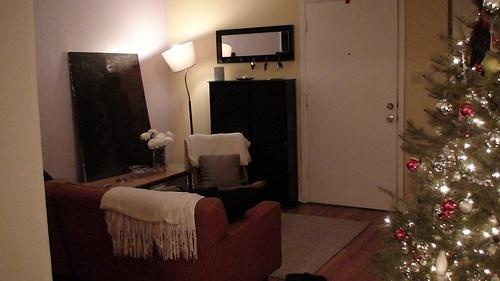chair: (184, 133, 268, 202)
sofa: (46, 170, 283, 281)
